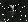person: (9, 7, 18, 16)
